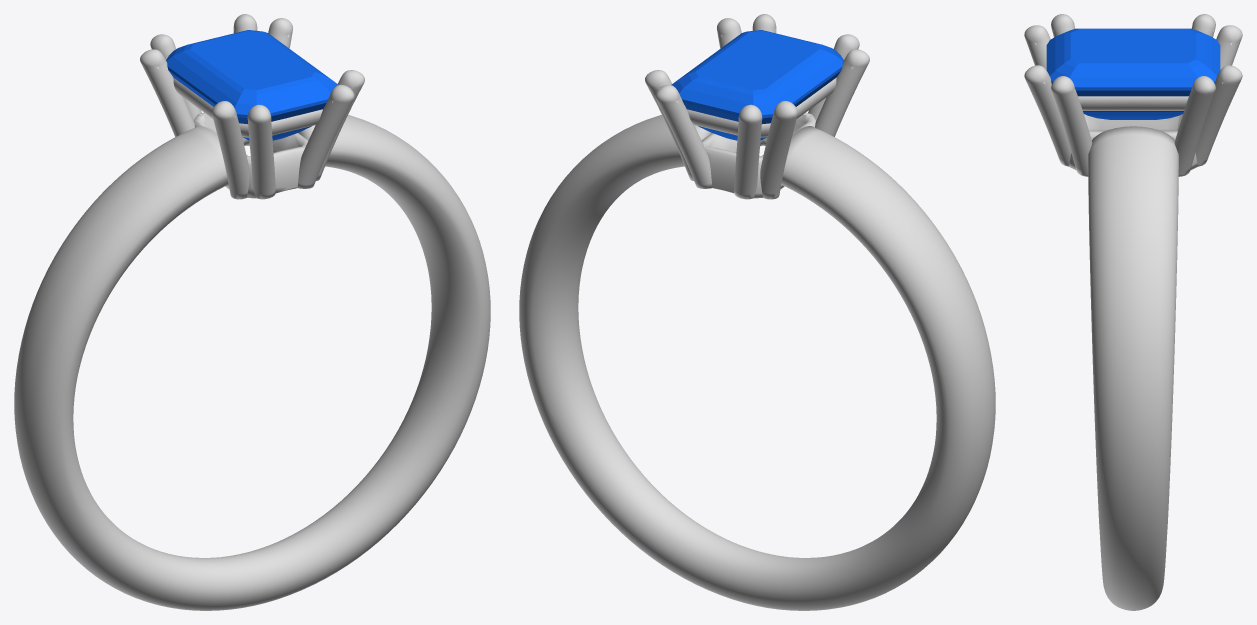
File: bluesapphire-emerald-platinum-8prong-taperedband-solitaire.glb
The picture shows the model from 3 angles, left to right: view 1: azimuth 30°, elevation 25°; view 2: azimuth 150°, elevation 25°; view 3: azimuth 270°, elevation 25°; orthographic projection.
Parts seen in each view (by area): view 1: metal.003, stone; view 2: metal.003, stone; view 3: metal.003, stone.
Boxes of the visible parts, <box> form: metal.003: <box>14,14,490,610</box>; stone: <box>166,30,338,140</box>; metal.003: <box>519,14,995,610</box>; stone: <box>671,30,843,140</box>; metal.003: <box>1024,14,1242,610</box>; stone: <box>1046,28,1220,119</box>.
Size of the model in its own units: 20.5 by 22.94 by 8.4.
